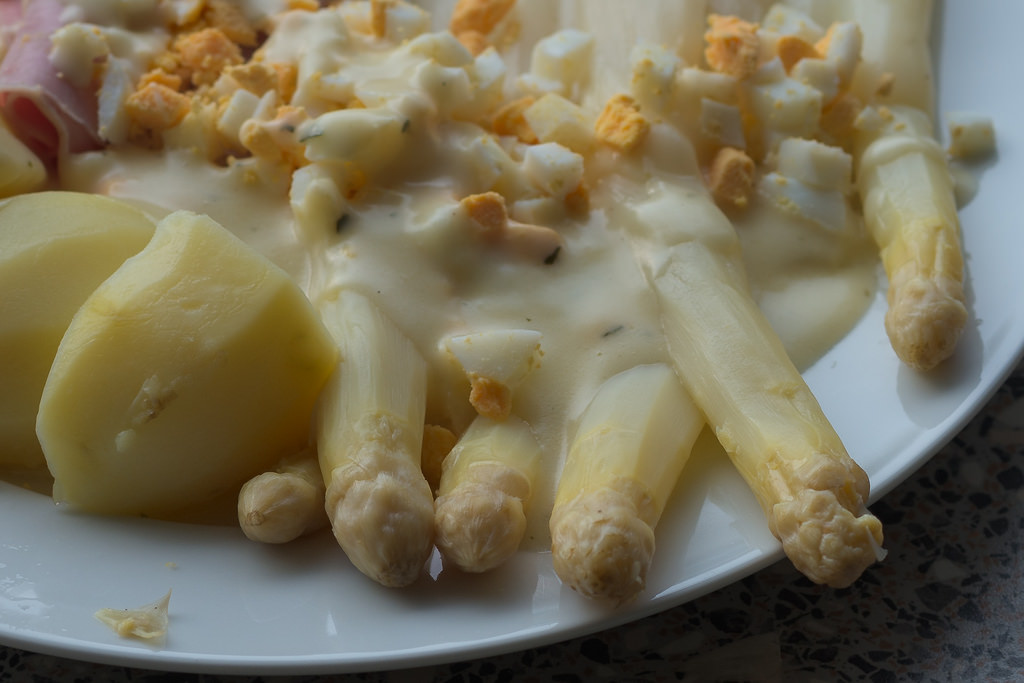boiled potatoes: (27, 197, 286, 492)
